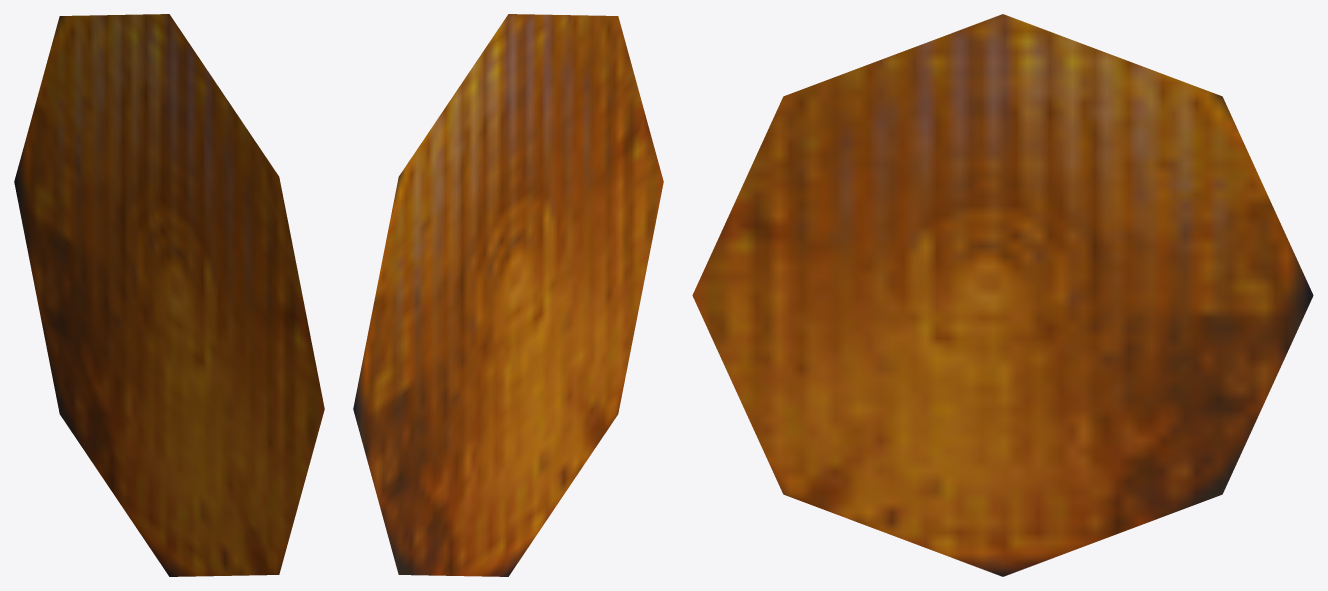
File: Traffic-LightA-BulbYellow.fbx
The picture shows the model from 3 angles, left to right: view 1: azimuth 30°, elevation 25°; view 2: azimuth 150°, elevation 25°; view 3: azimuth 270°, elevation 25°; orthographic projection.
Visible parts, largest first — view 1: Traffic-LightA-BulbYellow; view 2: Traffic-LightA-BulbYellow; view 3: Traffic-LightA-BulbYellow.
Boxes of the visible parts, left/top/right/bottom form: Traffic-LightA-BulbYellow: left=14, top=14, right=324, bottom=576; Traffic-LightA-BulbYellow: left=353, top=14, right=663, bottom=576; Traffic-LightA-BulbYellow: left=692, top=14, right=1313, bottom=576.
Bounding box in the file's own units: 3.81e-06 × 40 × 40.
